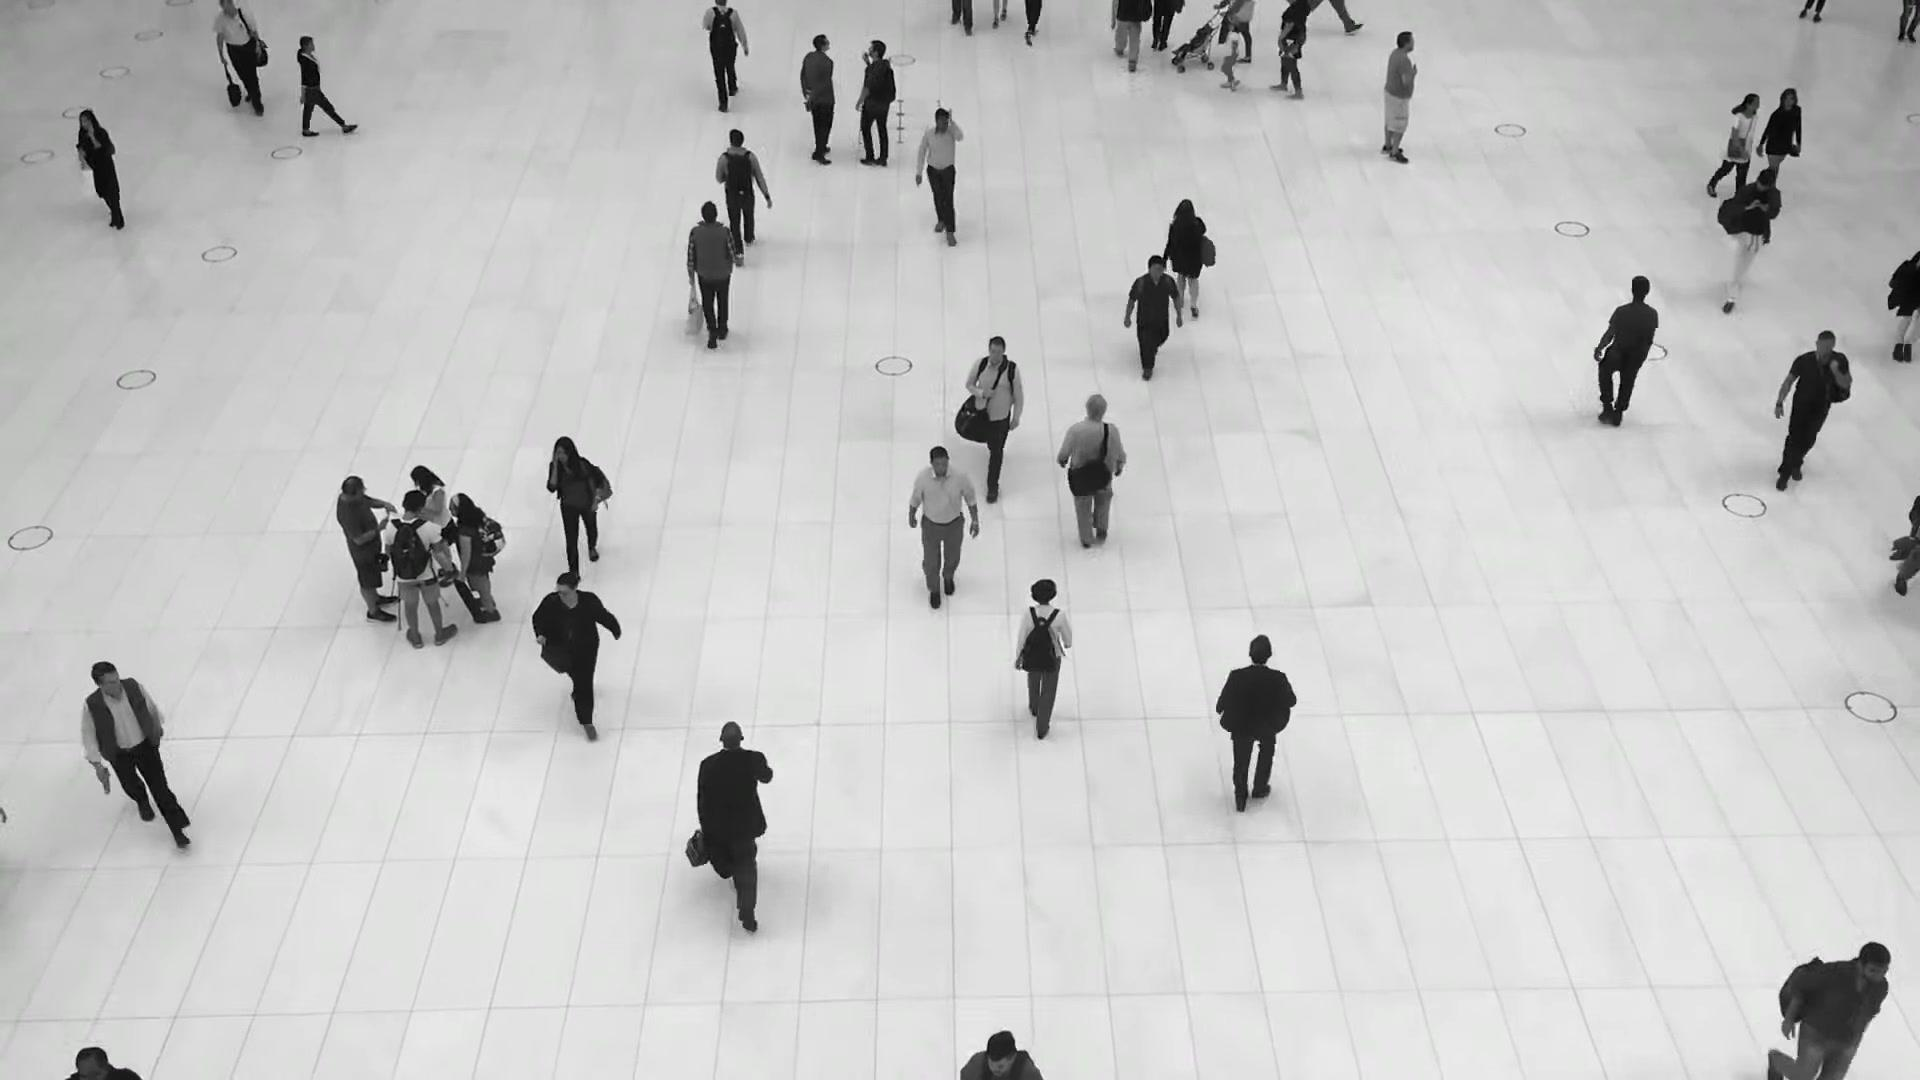person: (80, 661, 182, 851), (694, 722, 775, 918), (1213, 640, 1296, 831), (1780, 936, 1890, 1070), (533, 569, 619, 731), (1773, 332, 1850, 497), (383, 489, 458, 651), (906, 448, 976, 612), (1057, 398, 1127, 561), (1589, 278, 1657, 437), (1010, 582, 1070, 753), (335, 474, 400, 629), (1716, 166, 1782, 307), (966, 333, 1024, 493), (546, 435, 611, 575), (683, 201, 738, 349), (448, 492, 502, 624), (1128, 251, 1180, 373), (914, 108, 963, 240), (211, 0, 268, 113), (715, 128, 766, 252), (76, 108, 128, 229), (291, 35, 352, 137), (409, 465, 459, 588), (1162, 199, 1214, 313), (1708, 91, 1760, 198), (1381, 29, 1419, 164), (856, 39, 895, 169), (701, 0, 747, 108), (799, 35, 836, 165), (1756, 88, 1800, 182), (1274, 0, 1309, 99), (1217, 20, 1241, 92)
